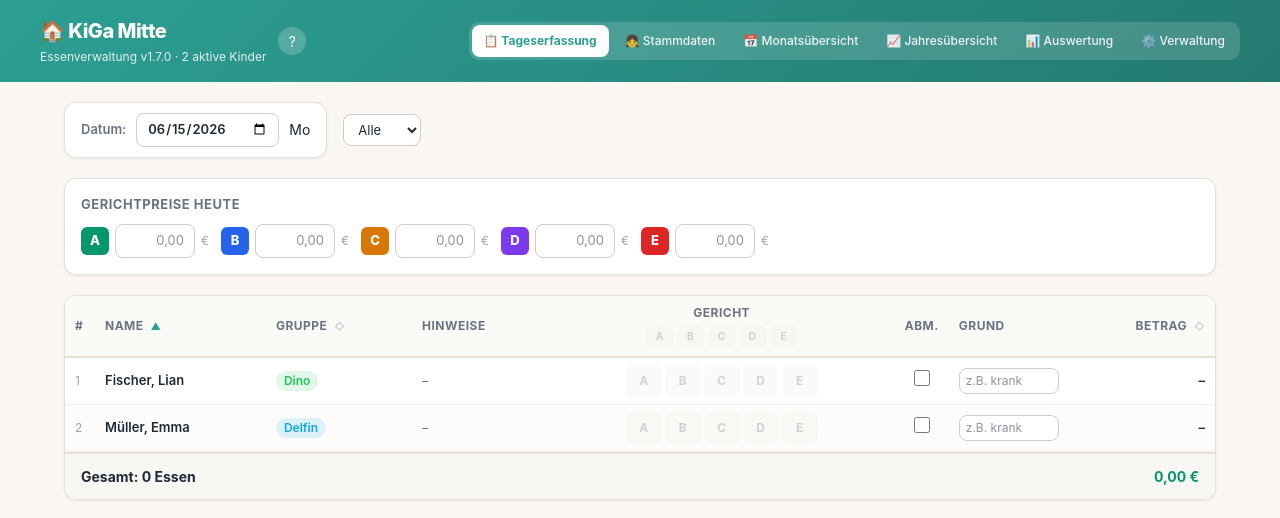
Test: YearlyReport › rendert 12 Monatsspalten + Gesamt
Expected: the text "Müller, Emma" is shown, [95,404,266,451]
Click the button "📈 Jahresübersicht": point(942, 41) [874,25,1009,57]
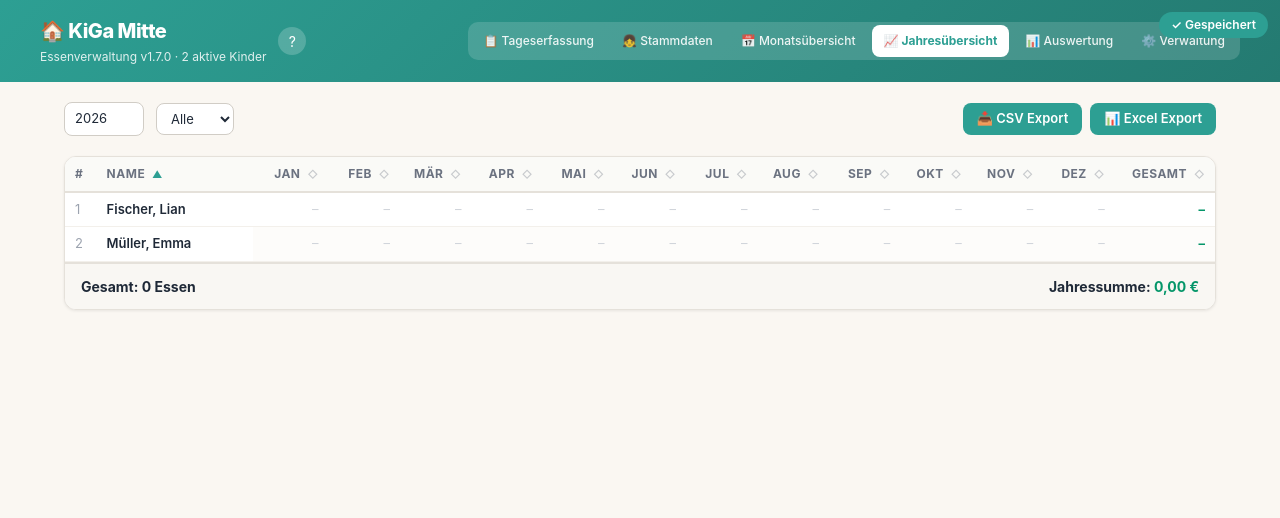
Expected: the column heading "Jan" is shown, [274,166,300,180]
Expected: the column heading "Feb" is shown, [348,166,372,180]
Expected: the column heading "Mär" is shown, [414,166,444,180]
